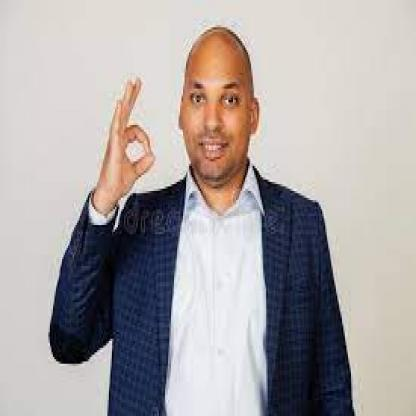ok: (102, 74, 156, 202)
